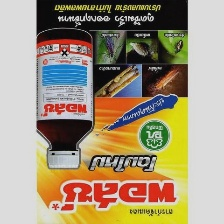insecticide: (30, 26, 95, 170)
